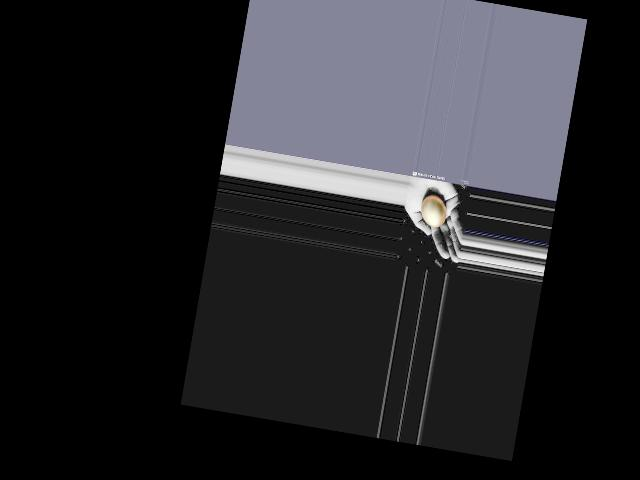egg: (418, 194, 449, 229)
